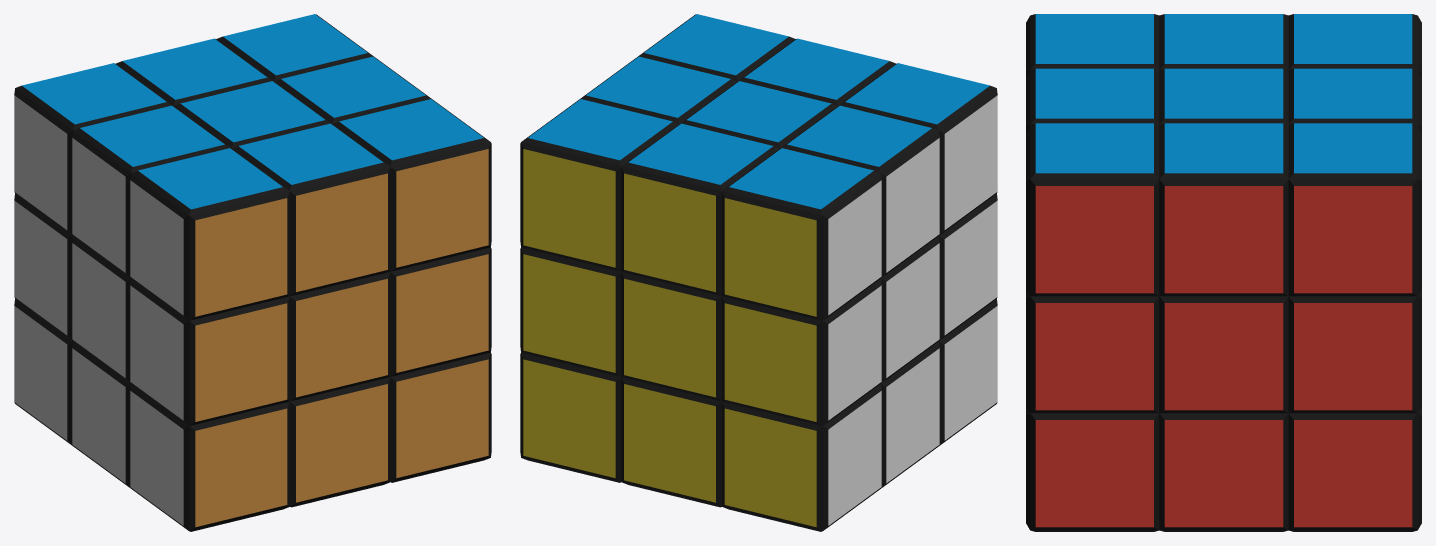
File: rcube.gltf
3 views of the same model, side by side, from view 1: azimuth 30°, elevation 25°; view 2: azimuth 150°, elevation 25°; view 3: azimuth 270°, elevation 25° (orthographic). The views are drawn at different scales.
Parts seen in each view (by area): view 1: node-0; view 2: node-0; view 3: node-0.
Boxes of the visible parts, x1,y1,x2,y2 form: node-0: [14, 14, 491, 531]; node-0: [520, 14, 997, 531]; node-0: [1026, 14, 1421, 531].
Bounding box in the file's own units: 0.0569 × 0.0569 × 0.057.
